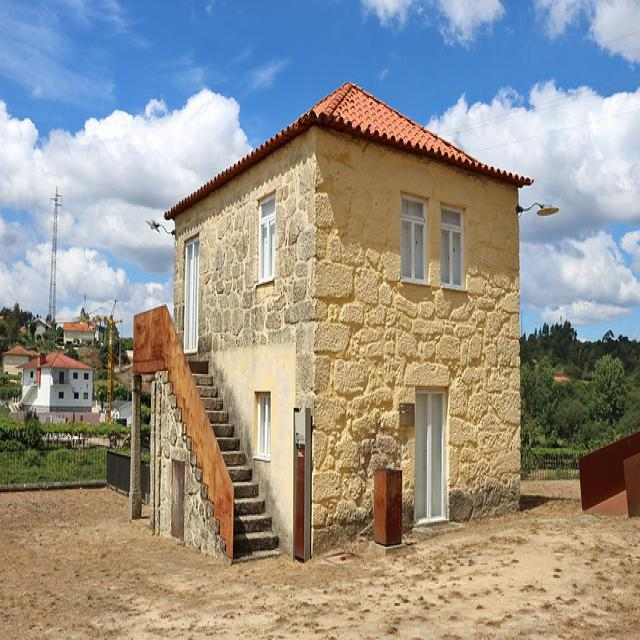Normal_building: (121, 78, 530, 562)
